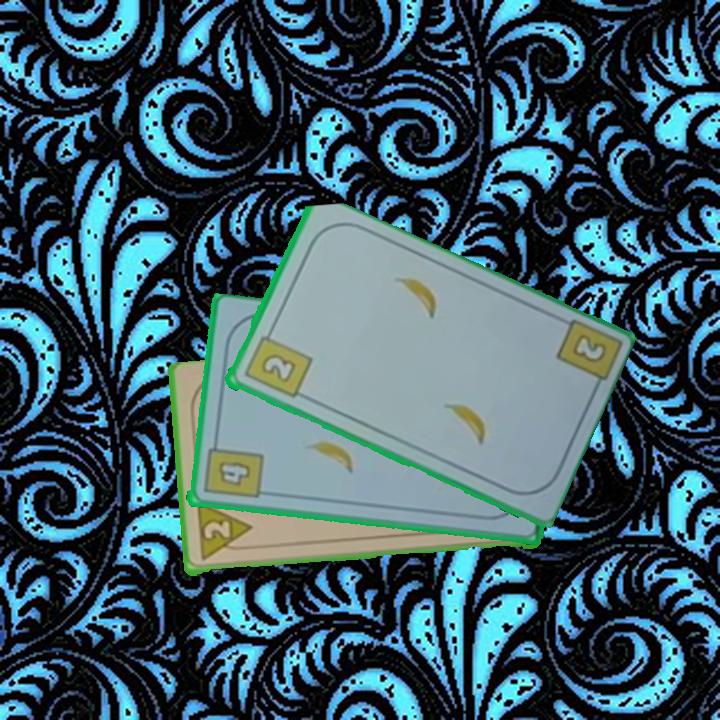2b: (240, 325, 314, 401), (567, 330, 609, 366)
2p: (193, 501, 255, 564)
4b: (199, 435, 265, 502)
